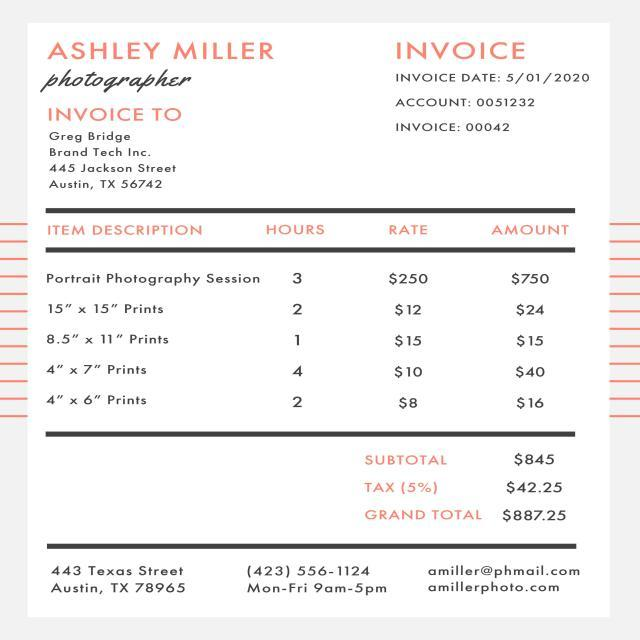customer_address: (44, 160, 180, 193)
customer_name: (45, 125, 152, 162)
invoice_date: (503, 67, 593, 87)
invoice_number: (462, 120, 515, 136)
invoice_subtotal: (508, 447, 561, 467)
invoice_total: (499, 504, 572, 527)
item_description: (39, 272, 260, 419)
item_quantity: (278, 264, 318, 423)
item_total_price: (507, 263, 556, 415)
item_unit_price: (382, 262, 434, 417)
supplier_address: (43, 560, 193, 598)
supplier_name: (41, 38, 278, 98)
tax_amount: (499, 477, 570, 497)
tax_rate: (406, 476, 432, 501)
